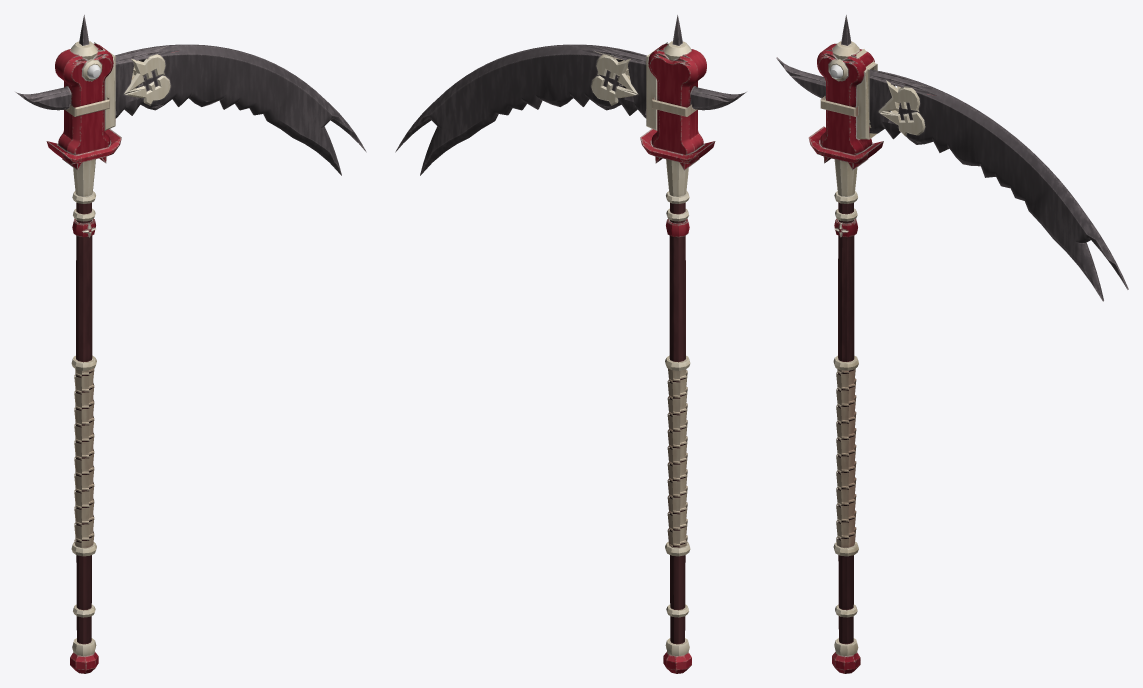
File: Pulsereaper.fbx
3 views of the same model, side by side, from view 1: azimuth 30°, elevation 25°; view 2: azimuth 150°, elevation 25°; view 3: azimuth 330°, elevation 25° (orthographic).
Parts seen in each view (by area): view 1: Pulsereaper_Body; view 2: Pulsereaper_Body; view 3: Pulsereaper_Body.
Boxes of the visible parts, x1,y1,x2,y2 form: Pulsereaper_Body: (15, 15, 366, 673); Pulsereaper_Body: (395, 15, 746, 673); Pulsereaper_Body: (776, 15, 1128, 673).
Size of the model in its own units: 3.55 by 6.35 by 0.39.
